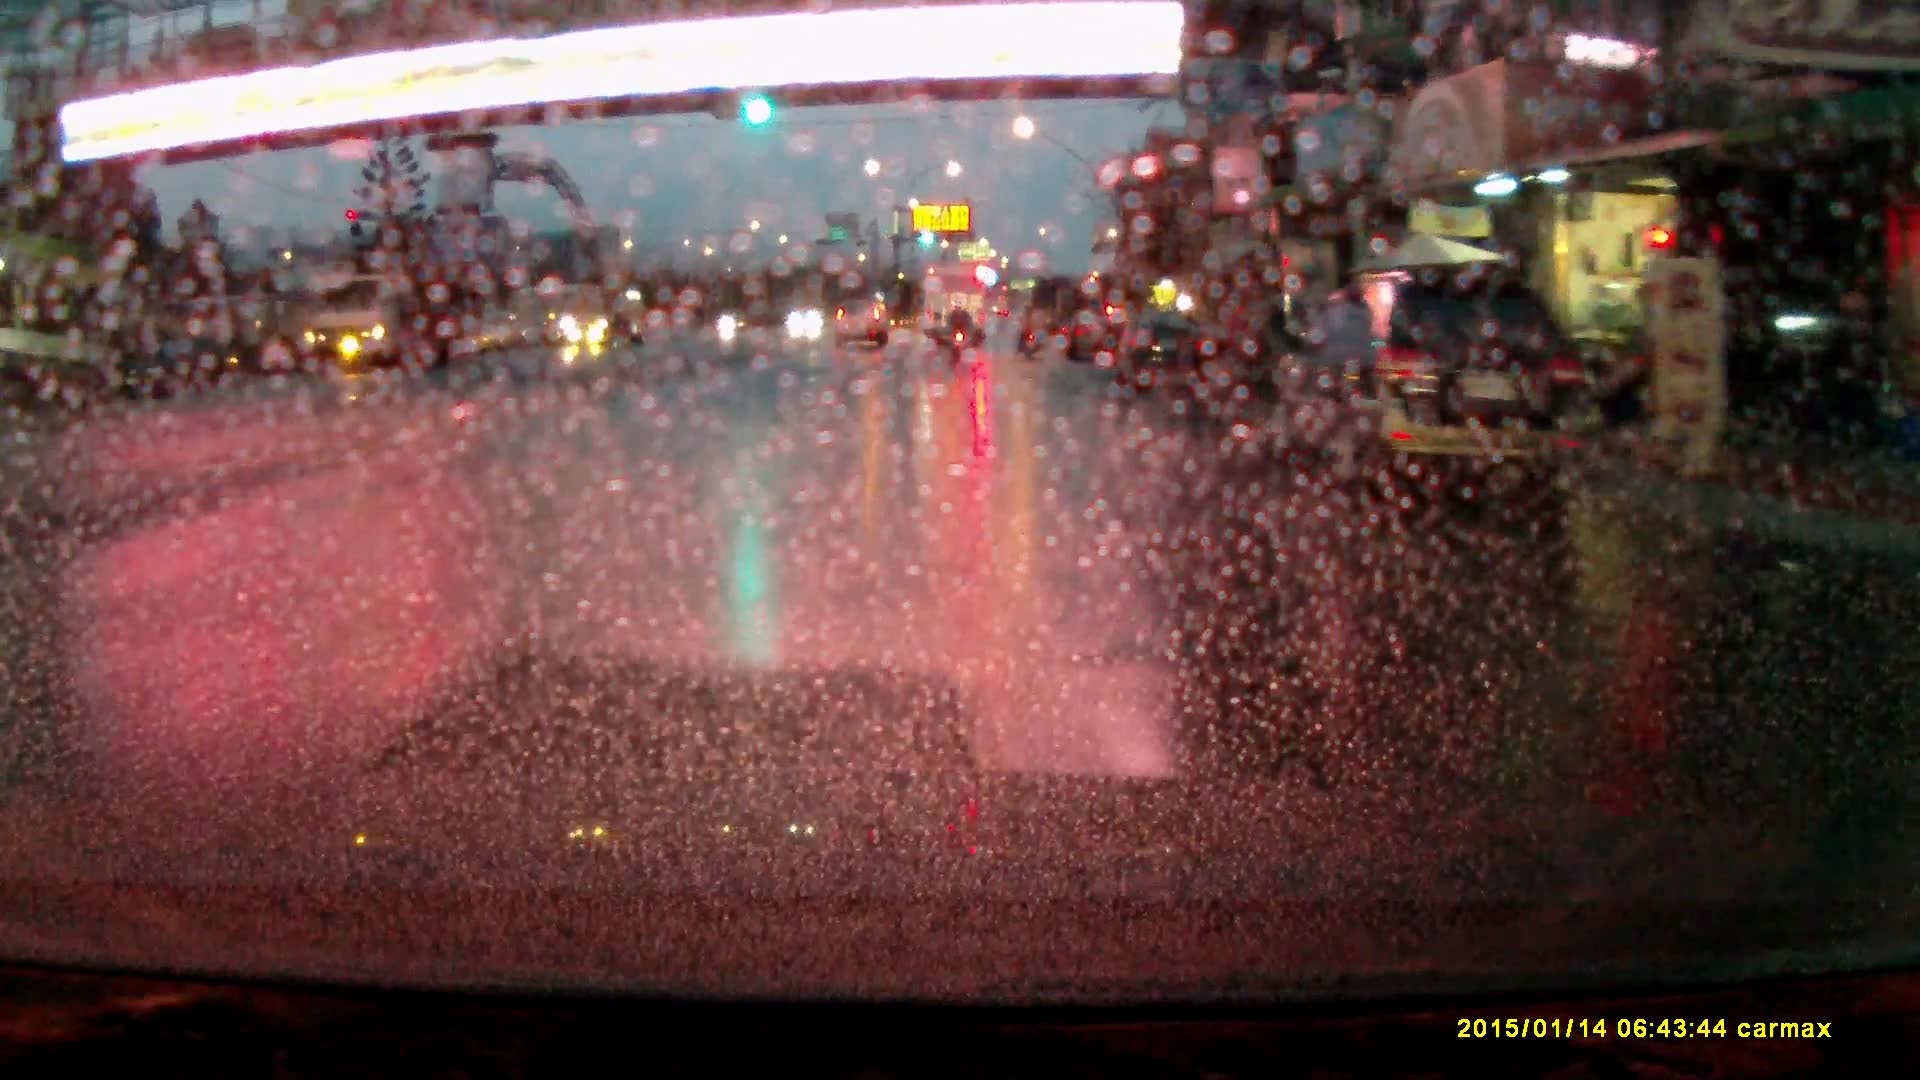rider: (947, 297, 974, 355)
vehicle: (1265, 260, 1598, 494), (297, 275, 463, 375), (1111, 307, 1211, 390), (558, 288, 653, 348), (921, 266, 990, 344), (1062, 308, 1129, 364), (832, 277, 889, 325)
